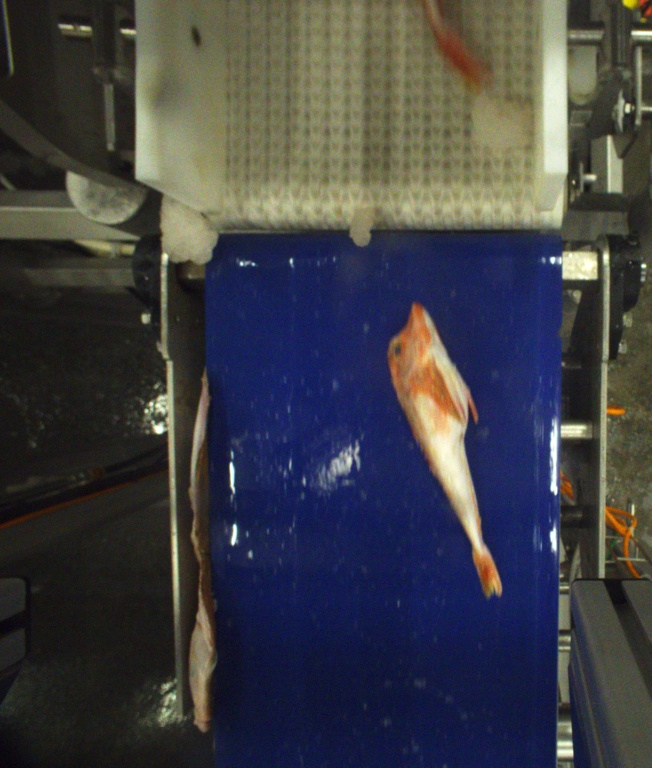GUU: (385, 302, 504, 600)
